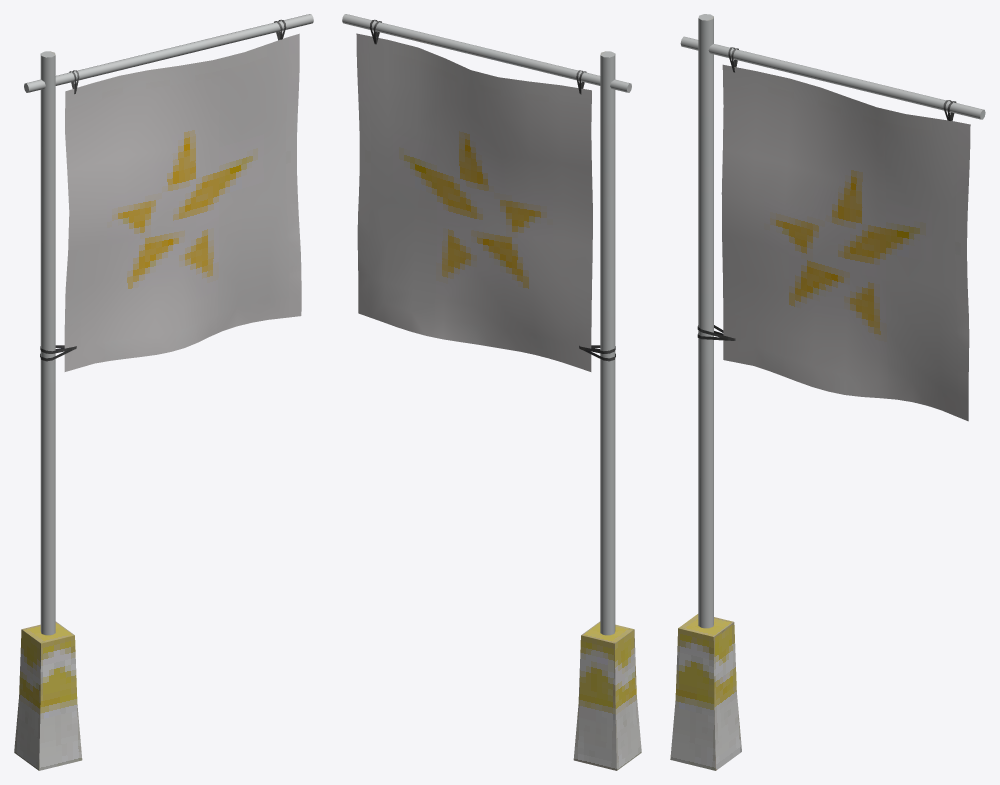
Rendered from objects_un_base_flag02_white.gltf.
3 views of the same model, side by side, from view 1: azimuth 30°, elevation 25°; view 2: azimuth 150°, elevation 25°; view 3: azimuth 330°, elevation 25° (orthographic). The views are drawn at different scales.
Parts seen in each view (by area): view 1: nomerge_objects_un_base_flag02_white_mesh2_shape:objects_un_, objects_un_base_flag02_white_mesh1_shape:objects_un_base_fla; view 2: nomerge_objects_un_base_flag02_white_mesh2_shape:objects_un_, objects_un_base_flag02_white_mesh1_shape:objects_un_base_fla; view 3: nomerge_objects_un_base_flag02_white_mesh2_shape:objects_un_, objects_un_base_flag02_white_mesh1_shape:objects_un_base_fla.
Part boxes in pixels (box(x1,y1,x2,y2)): nomerge_objects_un_base_flag02_white_mesh2_shape:objects_un_: box(40, 19, 301, 371); objects_un_base_flag02_white_mesh1_shape:objects_un_base_fla: box(14, 14, 313, 770); nomerge_objects_un_base_flag02_white_mesh2_shape:objects_un_: box(356, 19, 615, 371); objects_un_base_flag02_white_mesh1_shape:objects_un_base_fla: box(342, 14, 641, 770); nomerge_objects_un_base_flag02_white_mesh2_shape:objects_un_: box(697, 47, 970, 421); objects_un_base_flag02_white_mesh1_shape:objects_un_base_fla: box(670, 14, 985, 770).
Size of what is drawn, in the model's own units: 2.12 by 5 by 0.3223.
2 materials, 2 textured.
